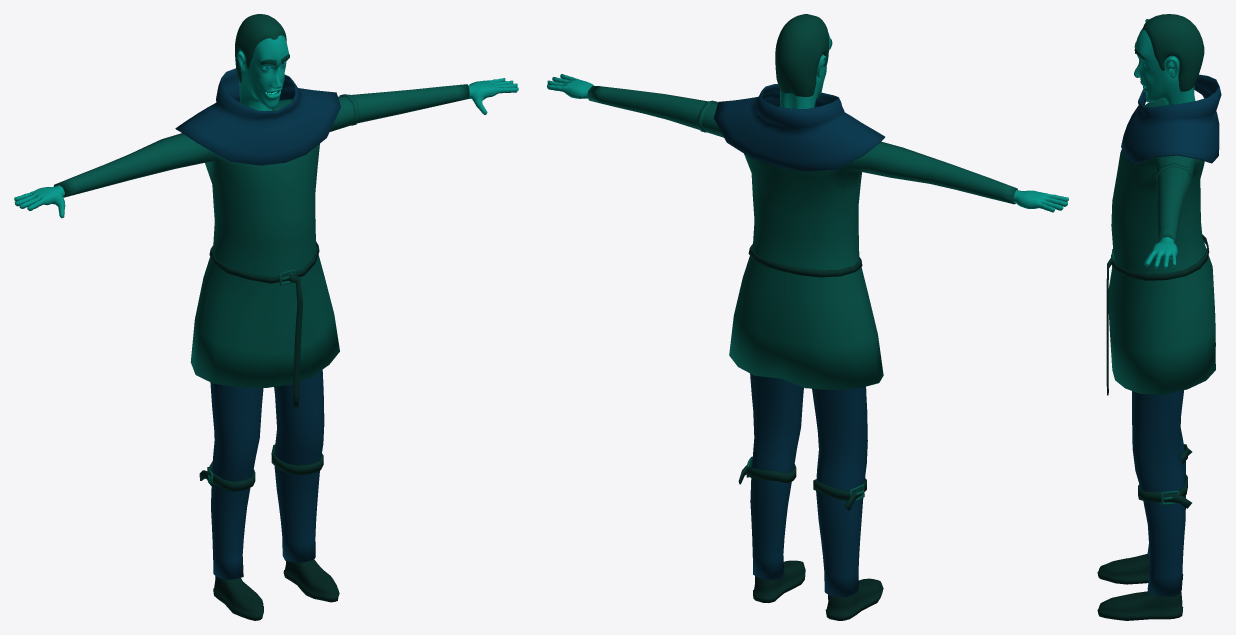
Rendered from UnamedChar01.fbx.
3 views of the same model, side by side, from view 1: azimuth 30°, elevation 25°; view 2: azimuth 150°, elevation 25°; view 3: azimuth 270°, elevation 25° (orthographic). The views are drawn at different scales.
Parts seen in each view (by area): view 1: UnamedChar01_Body, UnamedChar01_Head; view 2: UnamedChar01_Body, UnamedChar01_Head; view 3: UnamedChar01_Body, UnamedChar01_Head.
Boxes of the visible parts, x1,y1,x2,y2 form: UnamedChar01_Body: (14,68,518,620); UnamedChar01_Head: (235,14,289,110); UnamedChar01_Body: (547,74,1068,620); UnamedChar01_Head: (775,14,832,108); UnamedChar01_Body: (1097,19,1221,620); UnamedChar01_Head: (1134,14,1204,105).
Size of the model in its own units: 193 by 210 by 40.84.
